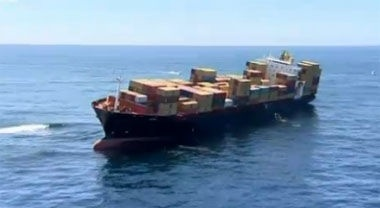Cargoship: (87, 51, 321, 149)
